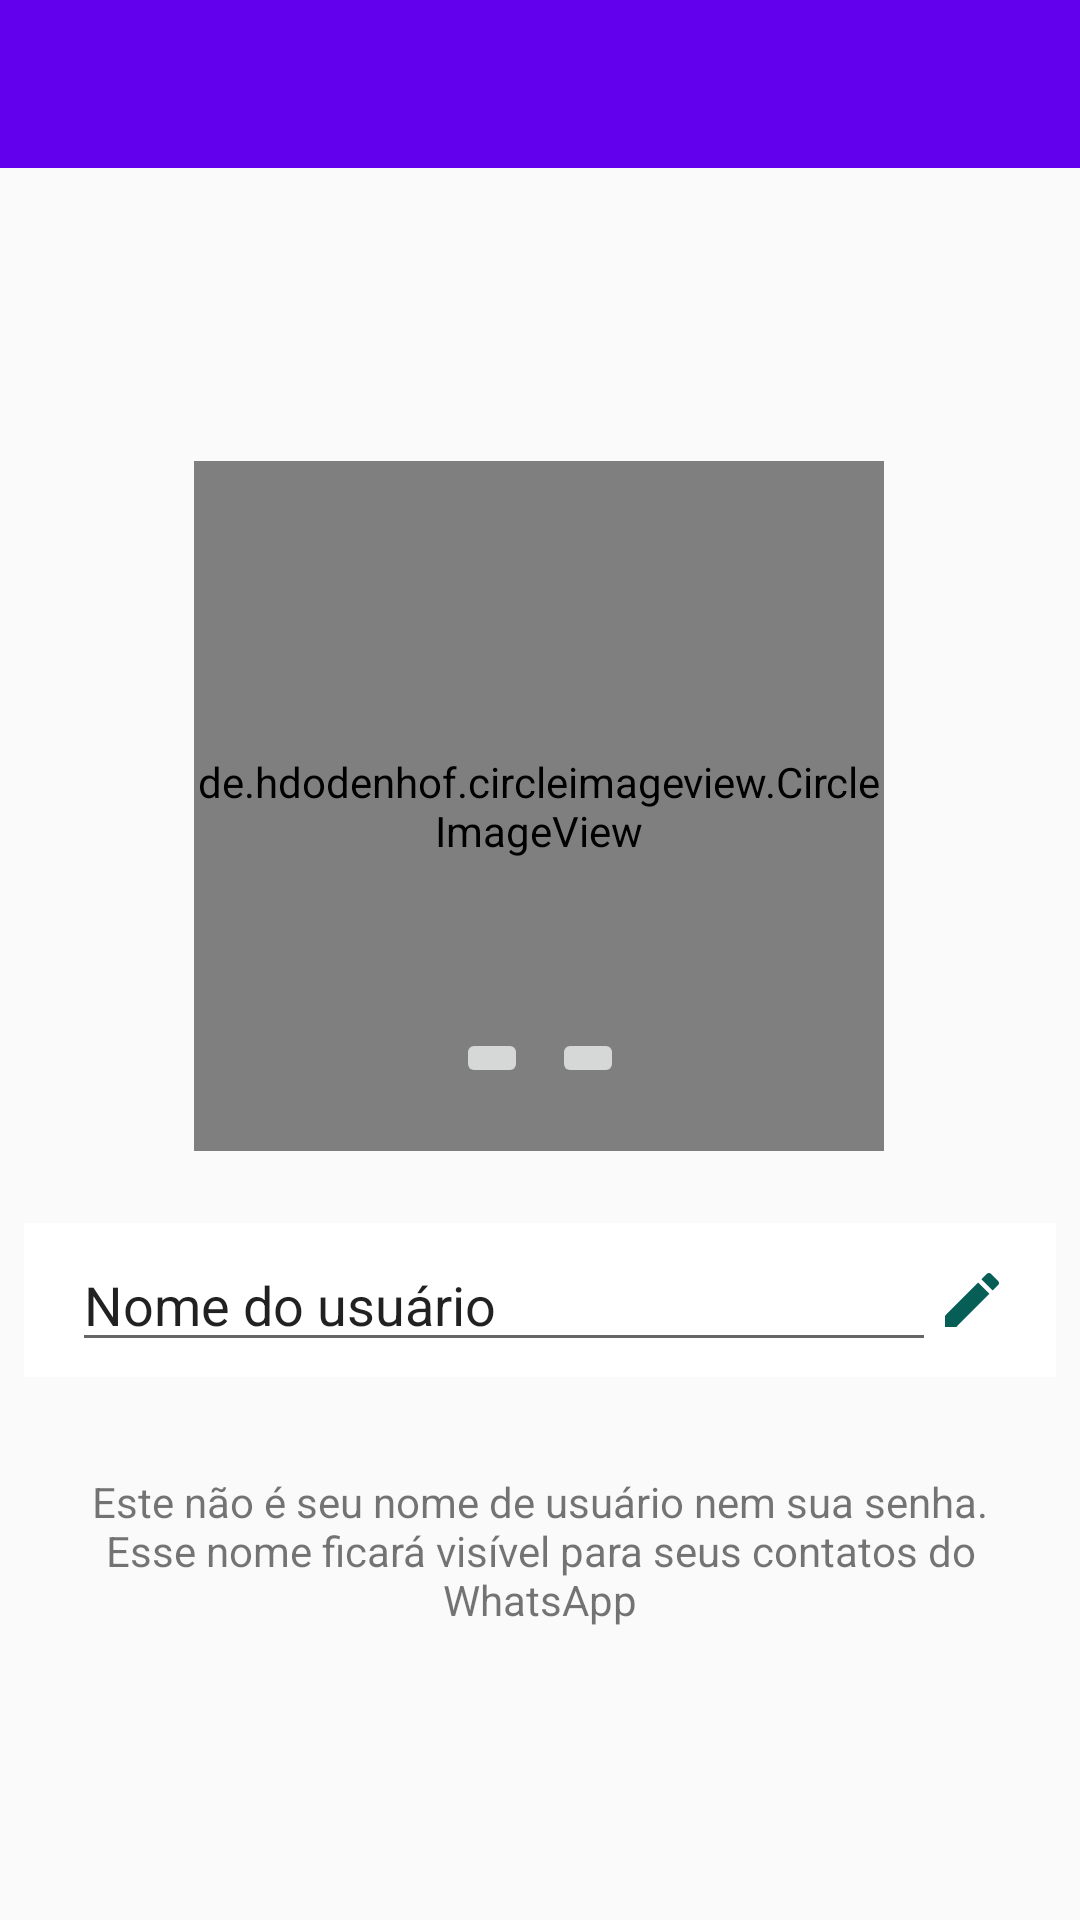

Locate icon controls on the screen. Image size 1080w x 1920h, boxes as (x1, y1, x2, y2).
editar verde: (945, 1273, 999, 1327)
